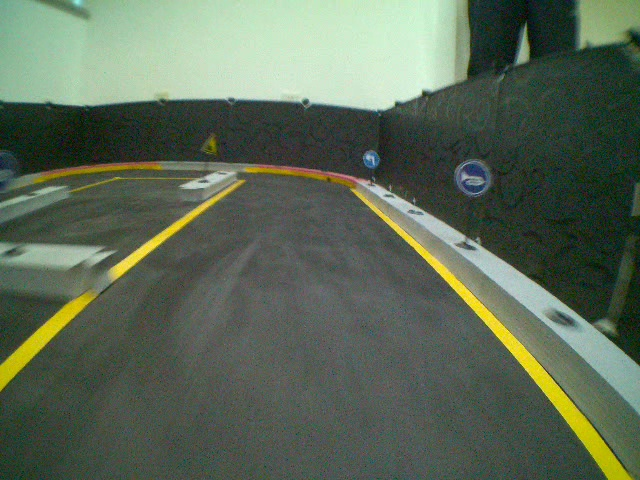fast: (200, 133, 218, 158)
horn: (453, 158, 491, 198)
turn: (363, 149, 380, 168)
